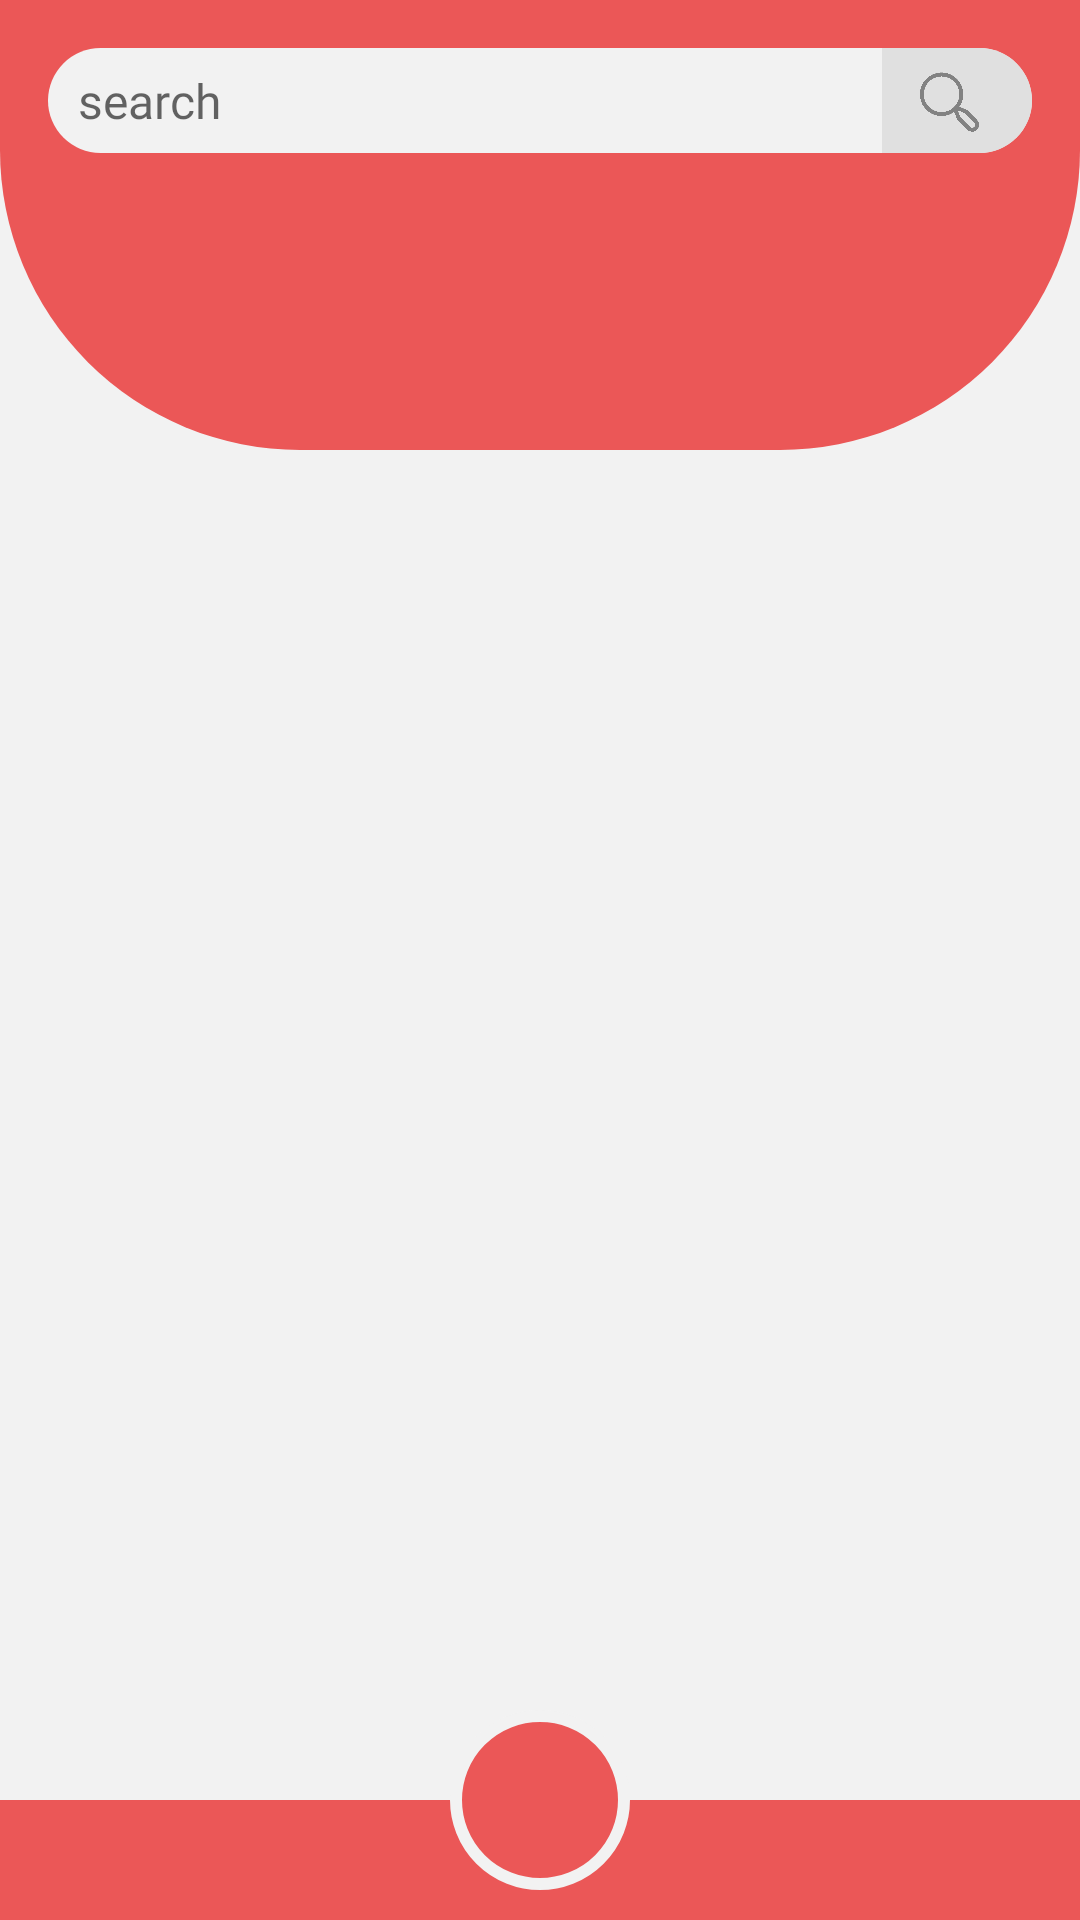

Icons on this 1080 × 1920 Android screen, each with its box as (left=x1, top=y1, right=x2, bottom=y2):
magnifier: (left=882, top=48, right=1032, bottom=153)
